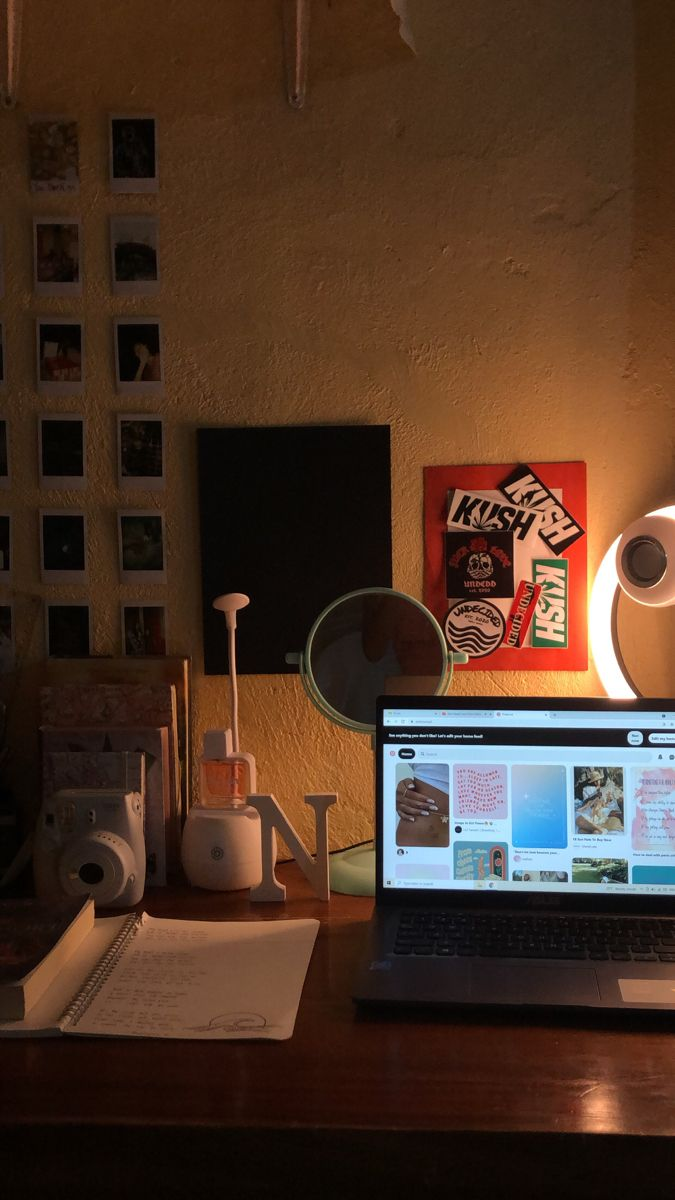not a gesture sign: (190, 353, 611, 1105)
